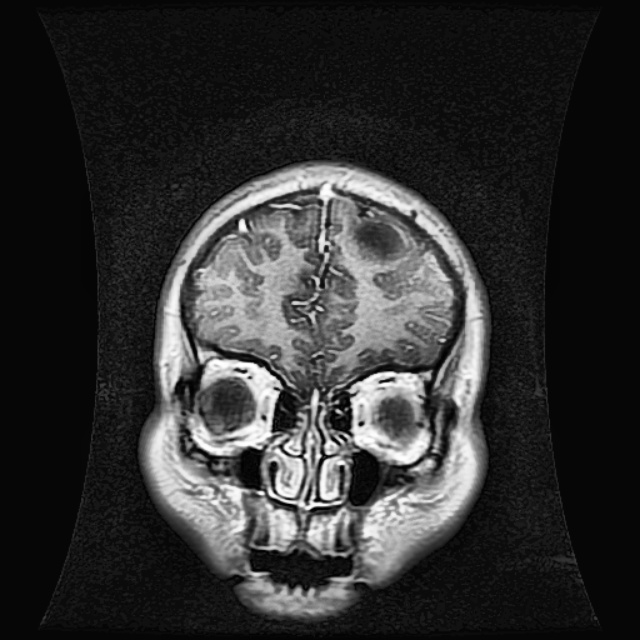Meningioma: (353, 214, 409, 262)
